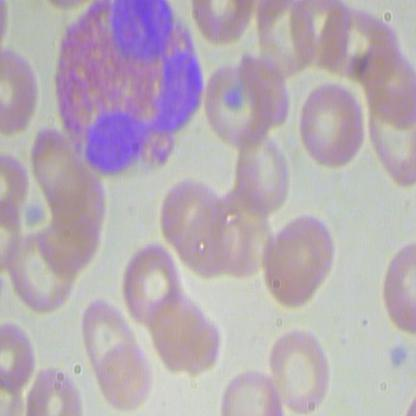Platelets: (384, 339, 411, 372), (24, 202, 48, 227)
RBC: (269, 212, 346, 295), (201, 56, 272, 146), (299, 78, 368, 169), (270, 322, 333, 414), (76, 298, 140, 381), (122, 238, 181, 324), (262, 230, 320, 311), (96, 340, 163, 407), (361, 33, 415, 115), (367, 102, 415, 194)
WBC: (46, 1, 212, 181)
